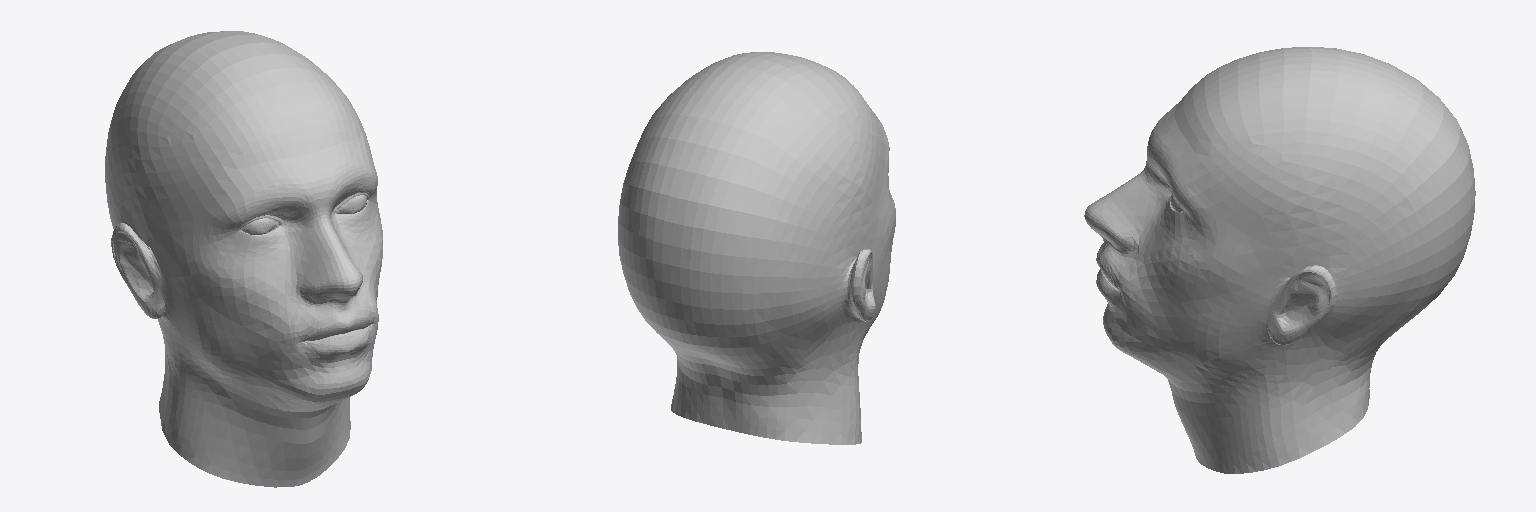
3 renders of one model, left to right at view 1: azimuth 30°, elevation 25°; view 2: azimuth 150°, elevation 25°; view 3: azimuth 270°, elevation 25°, orthographic.
Visible parts, largest first — view 1: FaceGen; view 2: FaceGen; view 3: FaceGen.
Boxes of the visible parts, x1=… form: FaceGen: x1=105, y1=31, x2=382, y2=487; FaceGen: x1=618, y1=52, x2=895, y2=444; FaceGen: x1=1084, y1=47, x2=1475, y2=473.
Bounding box in the file's own units: 176 × 281 × 250.